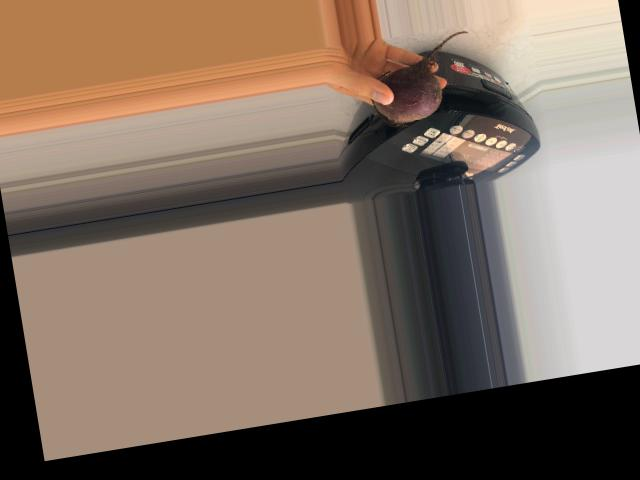beet: (364, 30, 481, 130)
